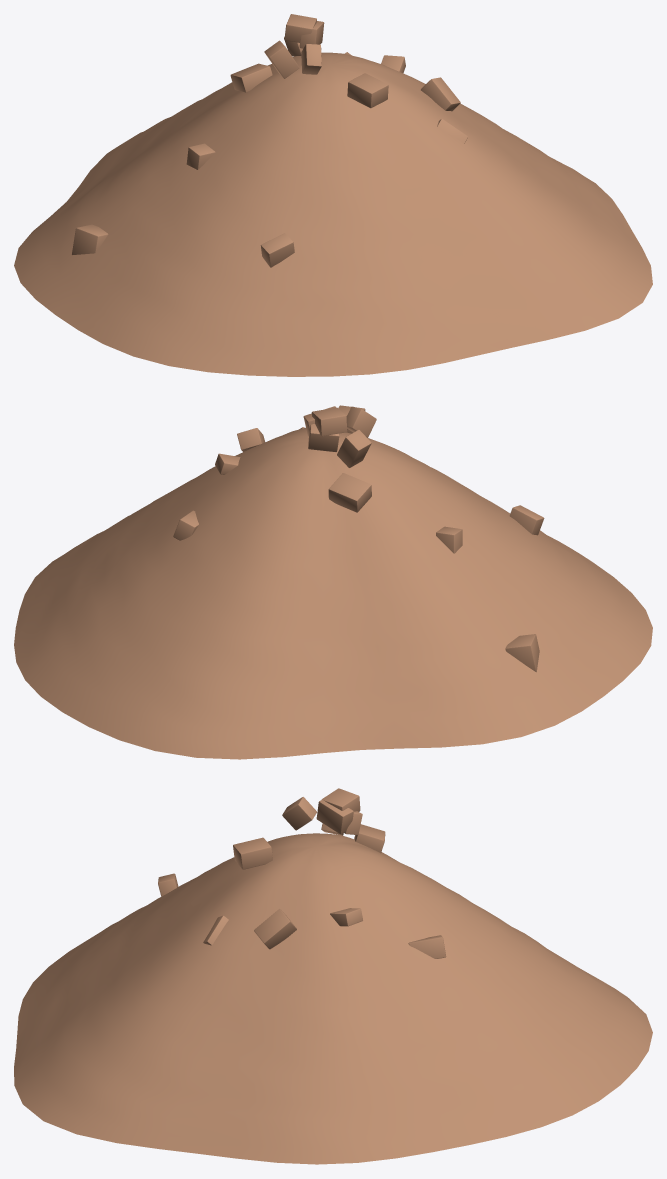
Rendered from TER-SOL-002.glb.
3 views of the same model, one above another, from view 1: azimuth 30°, elevation 25°; view 2: azimuth 150°, elevation 25°; view 3: azimuth 270°, elevation 25° (orthographic). The views are drawn at different scales.
Visible parts, largest first — view 1: TER-SOL-002_monte, TER-SOL-002_caco9, TER-SOL-002_caco12, TER-SOL-002_caco1, TER-SOL-002_caco3, TER-SOL-002_caco7, TER-SOL-002_caco2, TER-SOL-002_caco5, TER-SOL-002_caco11; view 2: TER-SOL-002_monte, TER-SOL-002_caco1, TER-SOL-002_caco12, TER-SOL-002_caco2, TER-SOL-002_caco5, TER-SOL-002_caco11, TER-SOL-002_caco3, TER-SOL-002_caco6; view 3: TER-SOL-002_monte, TER-SOL-002_caco9, TER-SOL-002_caco7, TER-SOL-002_caco10, TER-SOL-002_caco11, TER-SOL-002_caco5, TER-SOL-002_caco1, TER-SOL-002_caco13.
Part boxes in pixels (left/top/right/bottom): TER-SOL-002_monte: left=14, top=52, right=652, bottom=376; TER-SOL-002_caco9: left=347, top=73, right=388, bottom=108; TER-SOL-002_caco12: left=72, top=224, right=108, bottom=254; TER-SOL-002_caco1: left=230, top=63, right=272, bottom=92; TER-SOL-002_caco3: left=260, top=233, right=294, bottom=267; TER-SOL-002_caco7: left=421, top=77, right=460, bottom=111; TER-SOL-002_caco2: left=264, top=40, right=299, bottom=78; TER-SOL-002_caco5: left=284, top=14, right=316, bottom=42; TER-SOL-002_caco11: left=301, top=44, right=321, bottom=74; TER-SOL-002_monte: left=14, top=427, right=652, bottom=759; TER-SOL-002_caco1: left=328, top=473, right=371, bottom=512; TER-SOL-002_caco12: left=505, top=634, right=539, bottom=672; TER-SOL-002_caco2: left=337, top=430, right=371, bottom=467; TER-SOL-002_caco5: left=311, top=407, right=347, bottom=436; TER-SOL-002_caco11: left=346, top=406, right=376, bottom=437; TER-SOL-002_caco3: left=509, top=505, right=544, bottom=535; TER-SOL-002_caco6: left=308, top=424, right=339, bottom=451; TER-SOL-002_monte: left=14, top=833, right=652, bottom=1164; TER-SOL-002_caco9: left=233, top=837, right=272, bottom=869; TER-SOL-002_caco7: left=254, top=909, right=296, bottom=949; TER-SOL-002_caco10: left=316, top=799, right=353, bottom=834; TER-SOL-002_caco11: left=282, top=797, right=316, bottom=830; TER-SOL-002_caco5: left=321, top=788, right=360, bottom=811; TER-SOL-002_caco1: left=354, top=824, right=385, bottom=852; TER-SOL-002_caco13: left=408, top=935, right=446, bottom=958.
Bounding box in the file's own units: 1.7 × 0.6719 × 1.71.
